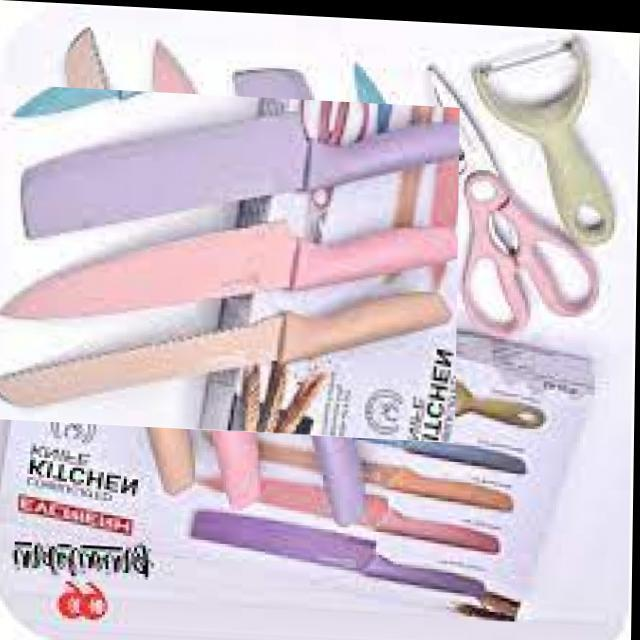knife: (20, 113, 458, 240), (2, 291, 451, 408), (4, 219, 462, 320)
